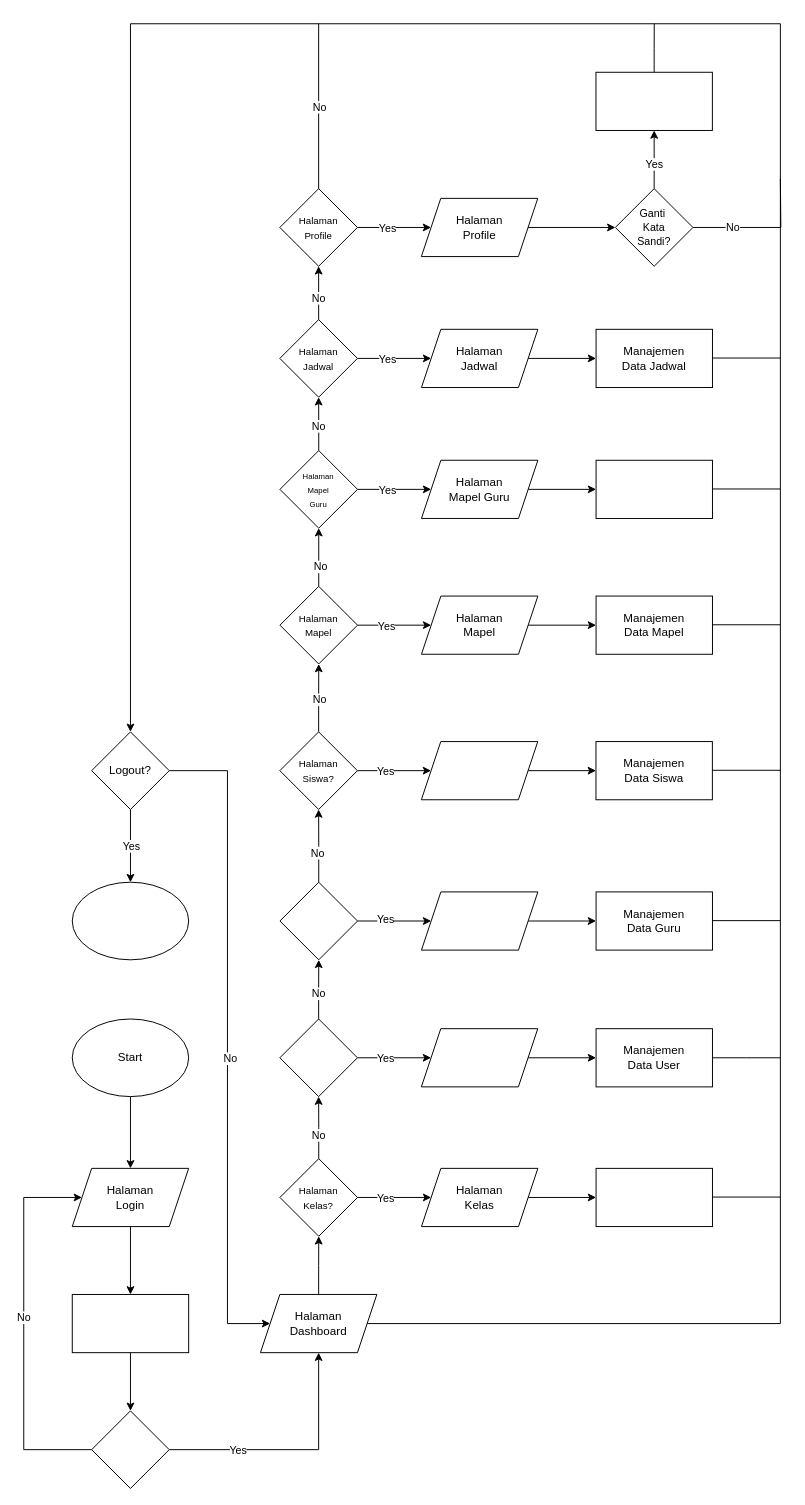
Image size: 805x1505. Some labels were removed from this diagram. The shapes that lost their labels are listed below. From the top down, each one's box as (x1, y1, x2, y2) in pixels, then its label:
(595, 71, 712, 130): Ganti Kata Sandi
(595, 459, 712, 518): Menempatkan Mapel Pada Guru
(420, 741, 538, 800): Halaman Siswa
(71, 881, 189, 960): End
(279, 881, 358, 960): Halaman Guru?
(420, 891, 538, 950): Halaman Guru
(279, 1018, 357, 1097): Halaman User?
(420, 1028, 538, 1087): Halaman User
(595, 1167, 712, 1227): Manajemen Data Kelas
(71, 1293, 189, 1353): Proses Login
(91, 1410, 169, 1488): Verified?
